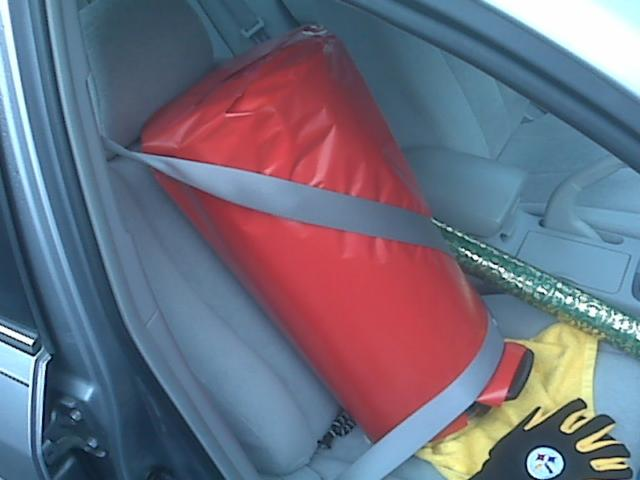Seatbelt: (101, 134, 507, 480)
